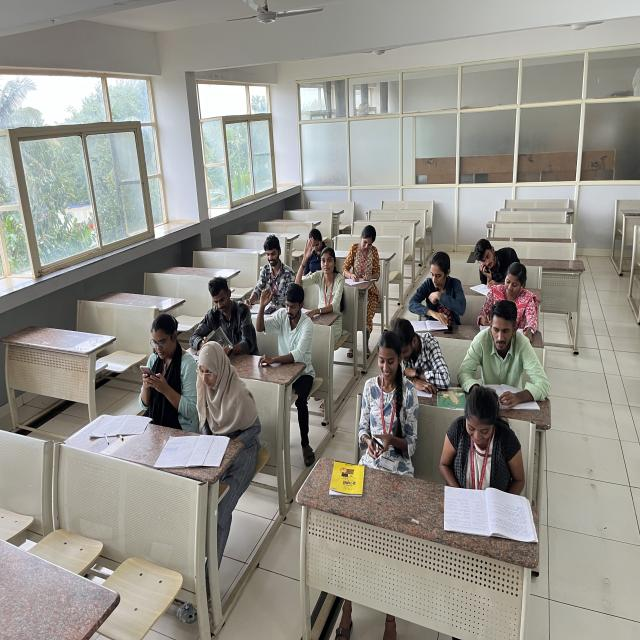Hand Rising: (255, 284, 313, 350), (295, 235, 343, 307)
Reading: (442, 388, 534, 516), (188, 339, 255, 441)
Sleeping: (388, 324, 449, 382)
Using Phone: (350, 326, 418, 468), (135, 314, 195, 409), (467, 234, 521, 286)
Writing: (342, 225, 392, 291)
